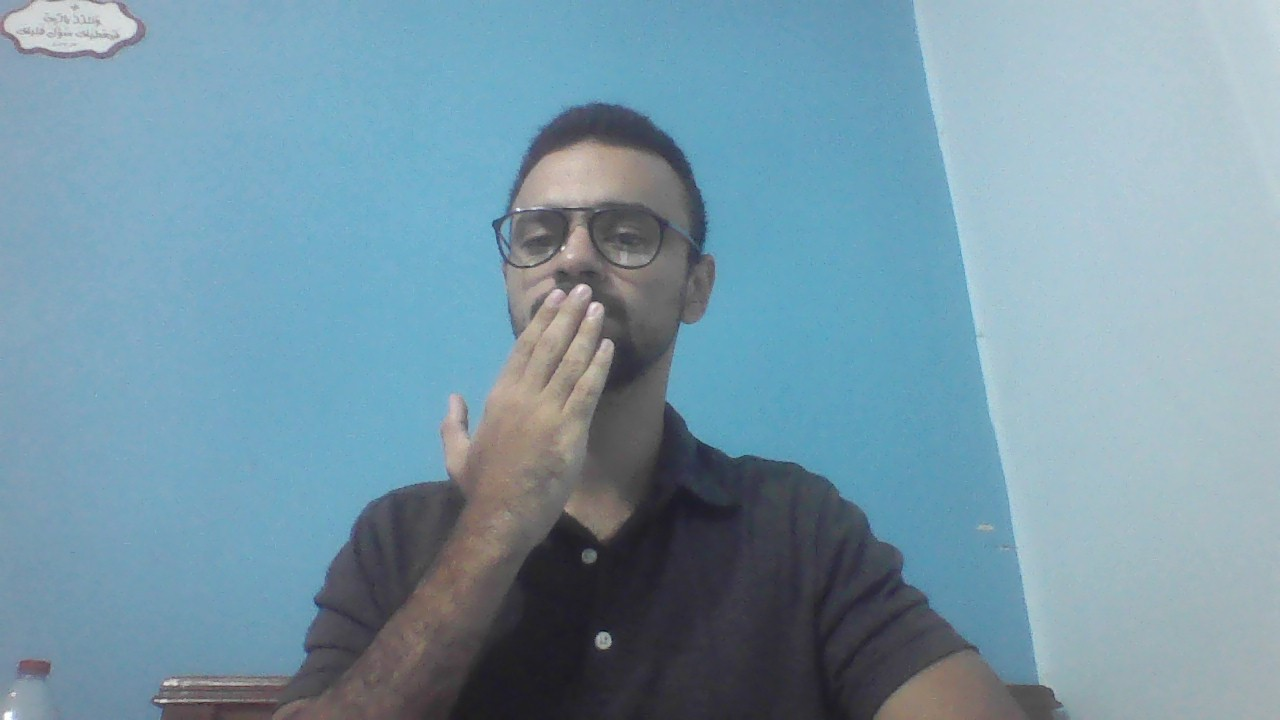thankyou: (440, 285, 615, 532)
